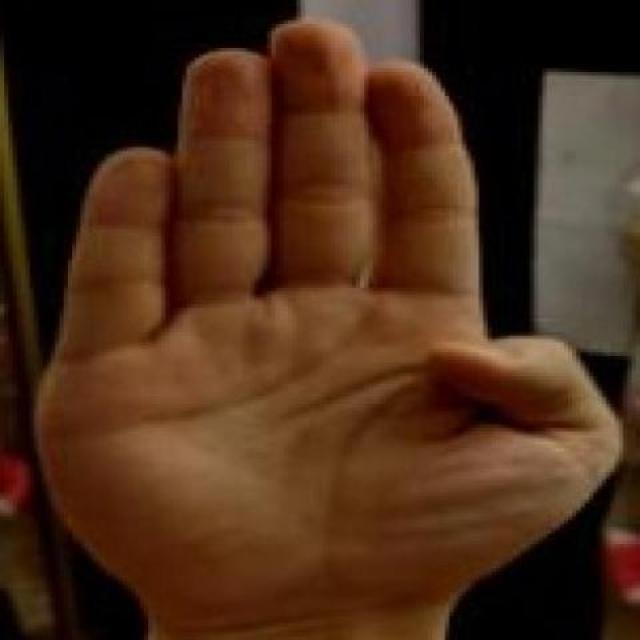Open Hand: (30, 14, 629, 640)
